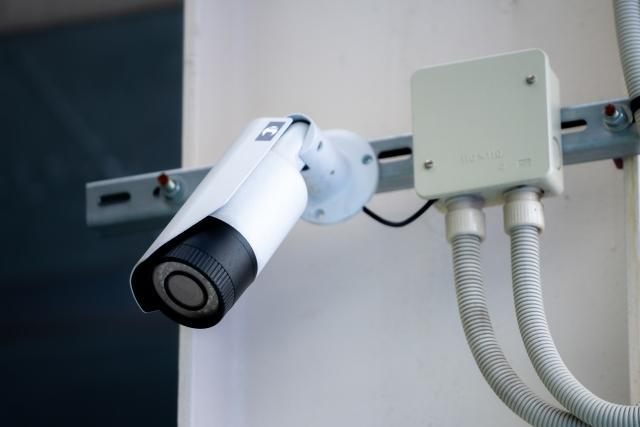tutu: (123, 106, 381, 326)
